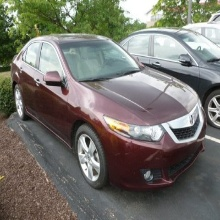no damage: (10, 32, 208, 194)
